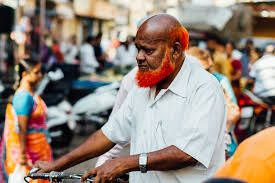no-mask: (126, 18, 189, 88)
